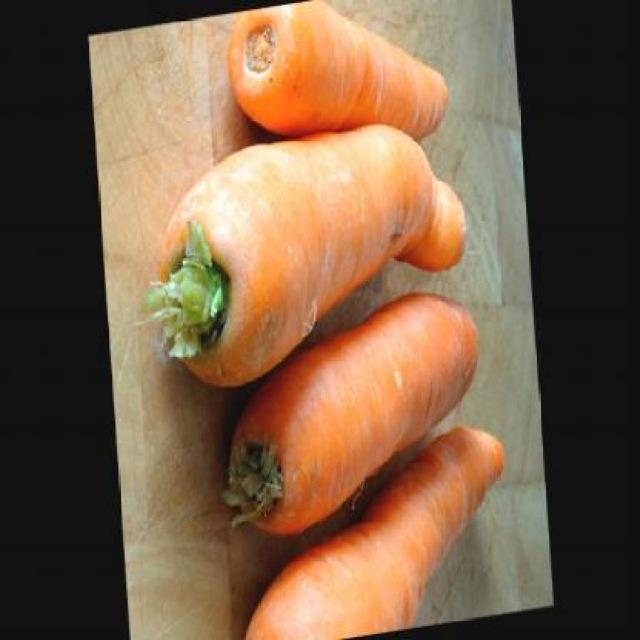carrot: (150, 108, 476, 395), (217, 280, 488, 543), (225, 418, 513, 639), (224, 0, 453, 171)
